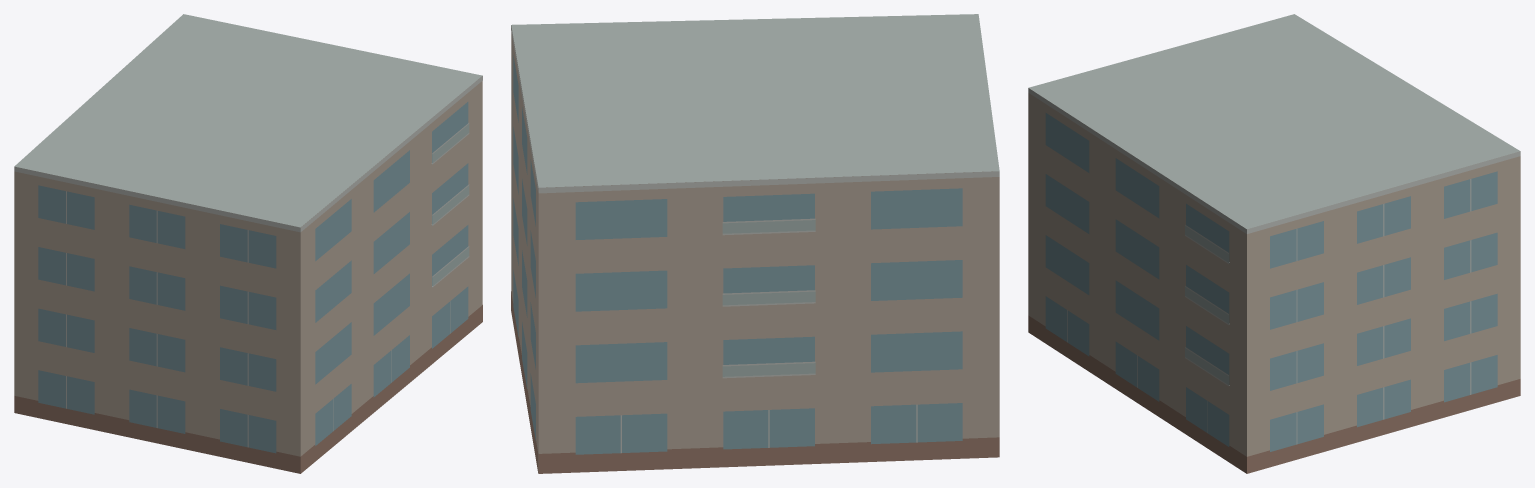
The model's file is survey-upis-32724185.glb.
3 views of the same model, side by side, from view 1: azimuth 30°, elevation 25°; view 2: azimuth 150°, elevation 25°; view 3: azimuth 270°, elevation 25° (orthographic). The views are drawn at different scales.
Parts seen in each view (by area): view 1: survey-upis-32724185.tmp; view 2: survey-upis-32724185.tmp; view 3: survey-upis-32724185.tmp.
Boxes of the visible parts, x1,y1,x2,y2 form: survey-upis-32724185.tmp: (14, 14, 482, 473); survey-upis-32724185.tmp: (511, 14, 999, 473); survey-upis-32724185.tmp: (1028, 14, 1520, 473).
Size of the model in its own units: 23.04 by 12.2 by 22.27.
